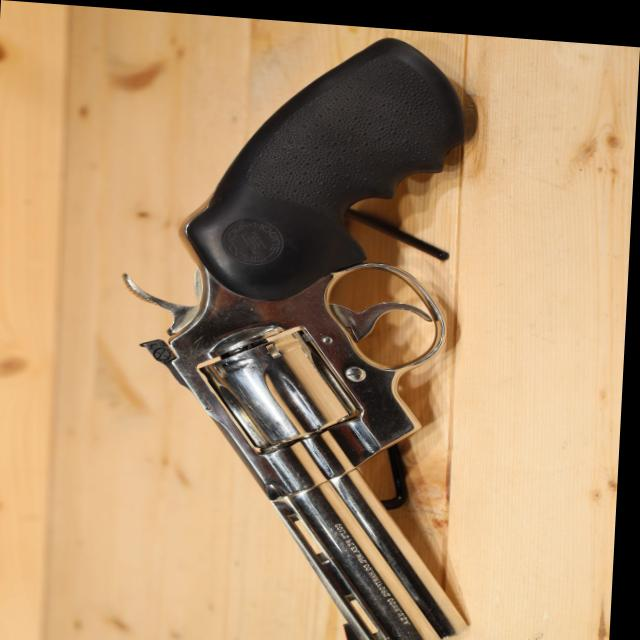handgun: (106, 11, 552, 640)
